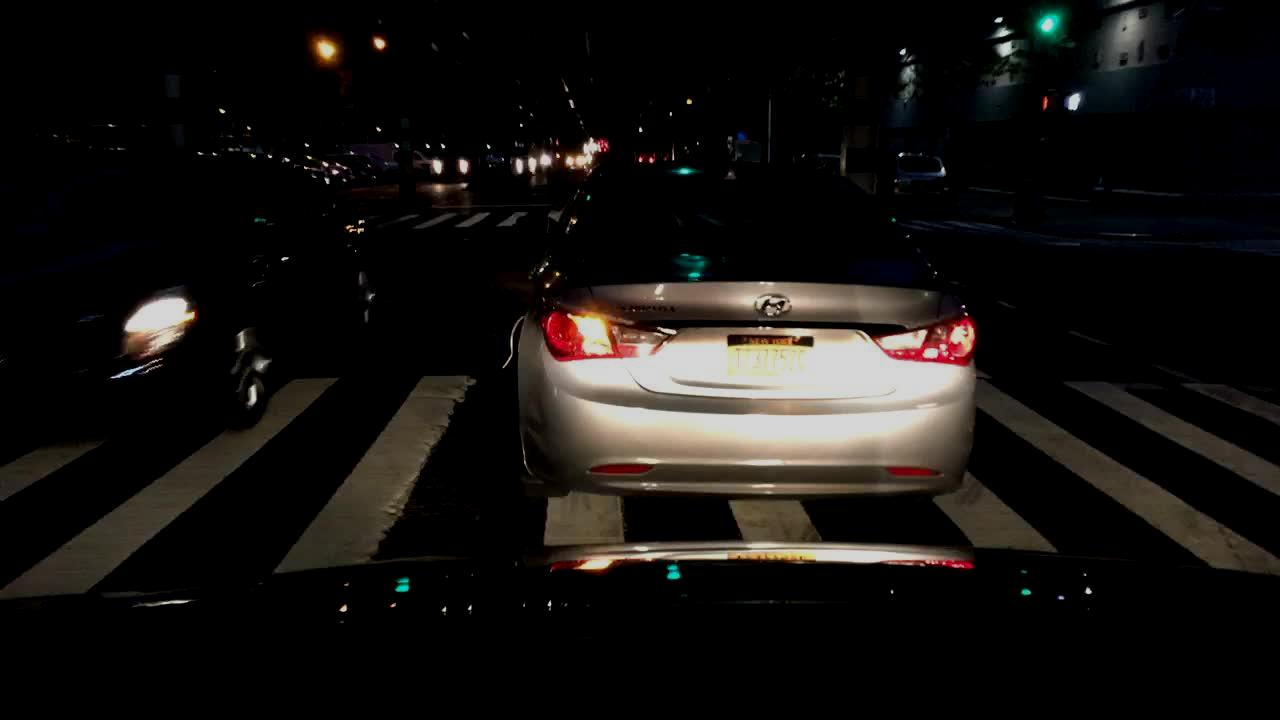Hyundai: (733, 291, 813, 330)
